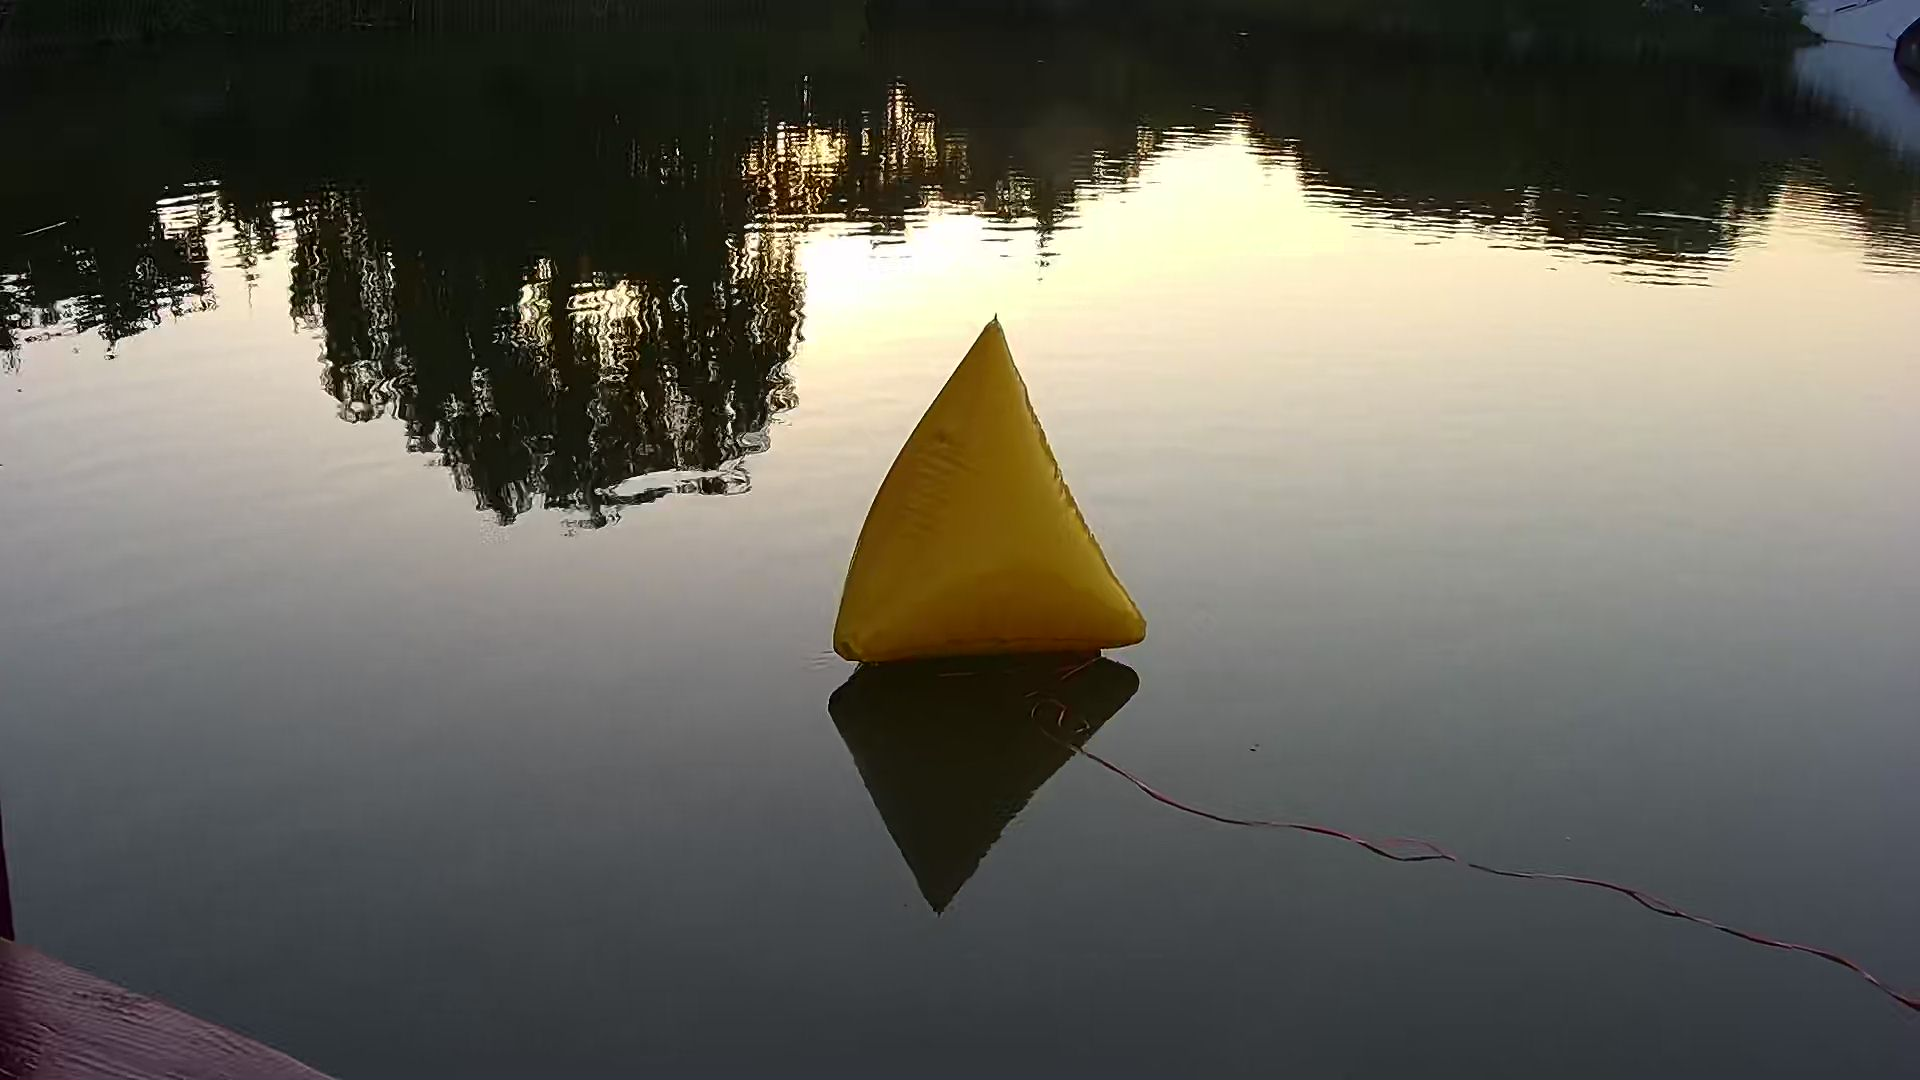rubbish: (835, 314, 1154, 665)
